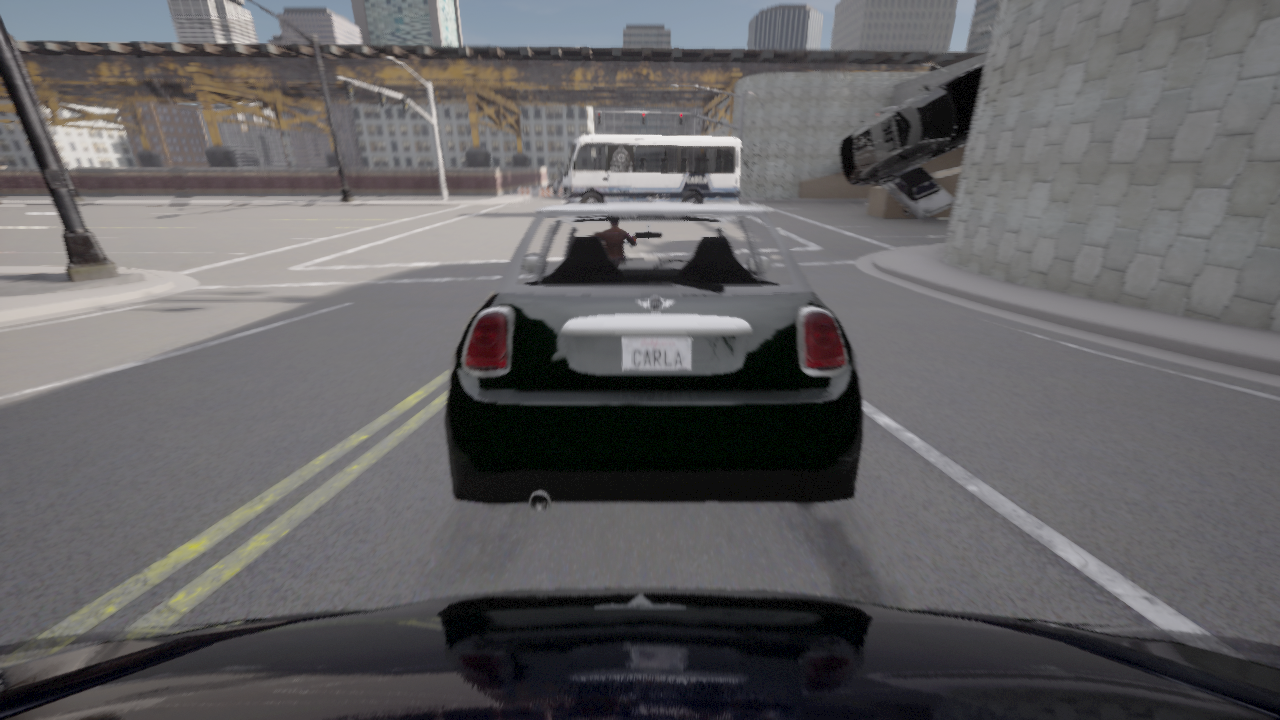cyclist: (0, 588, 1279, 719), (445, 205, 862, 511), (839, 63, 984, 186), (556, 134, 740, 205), (878, 166, 953, 219), (548, 180, 561, 195)
